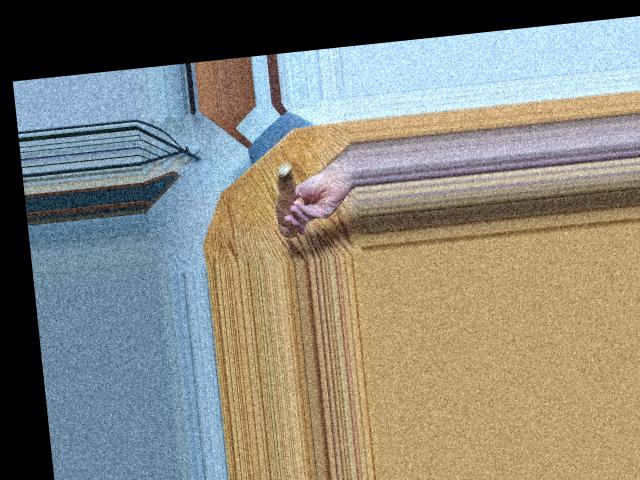sweet_potato: (270, 161, 307, 236)
